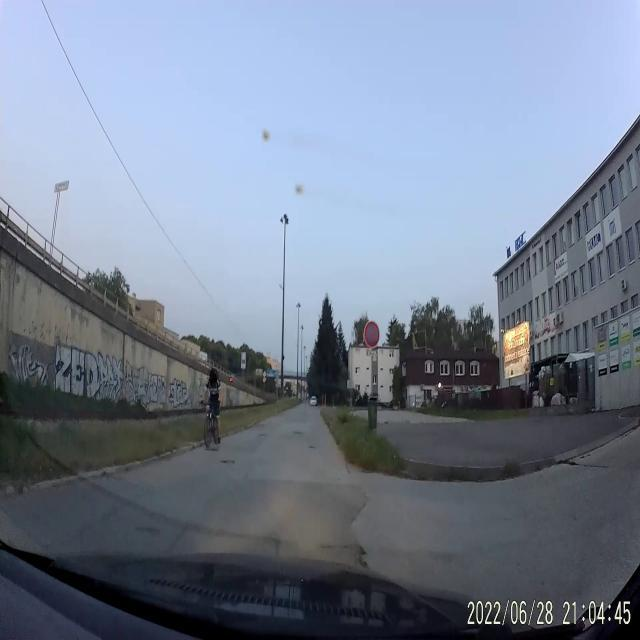Pothole: (134, 524, 162, 540), (218, 458, 236, 468), (205, 446, 220, 453), (292, 428, 303, 436), (307, 444, 316, 452), (259, 432, 267, 438)
